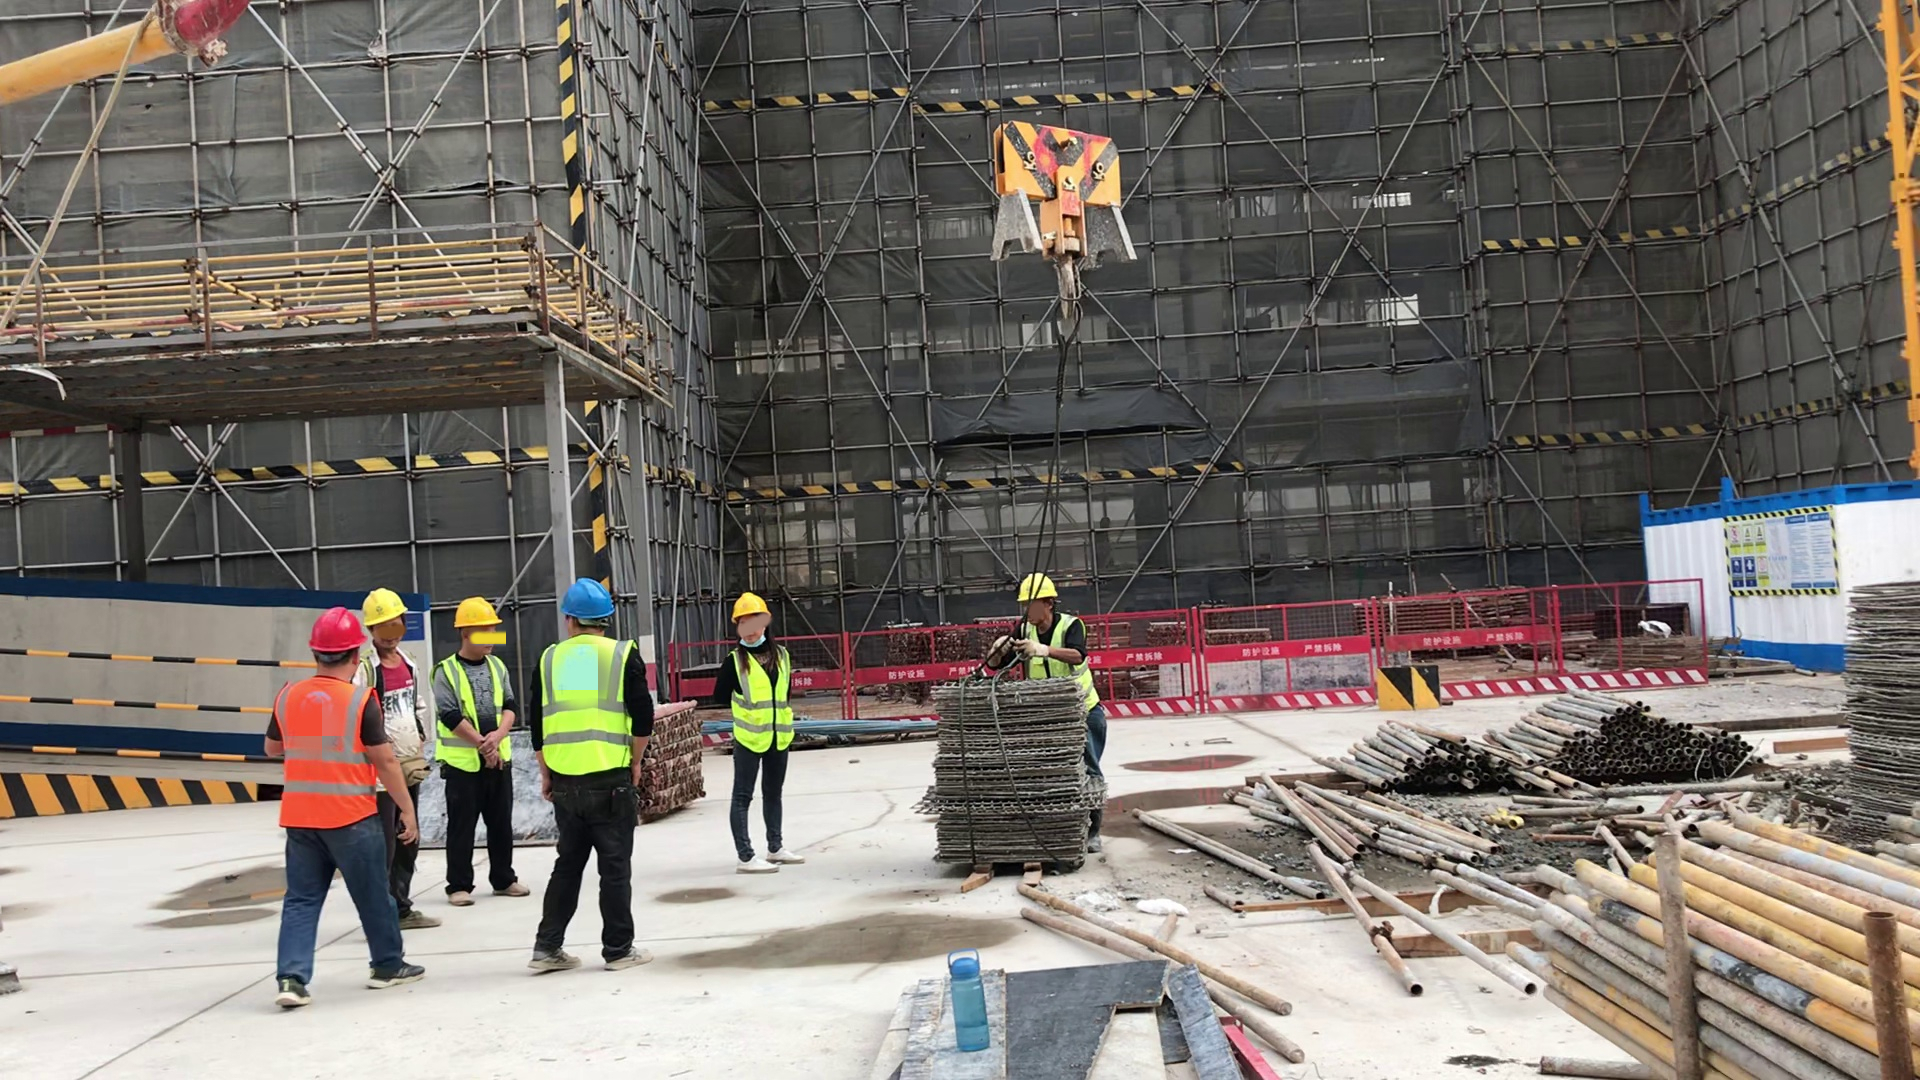fence: (804, 576, 1704, 746)
helmet: (308, 603, 367, 649), (555, 579, 615, 620), (450, 597, 501, 630), (362, 587, 412, 620), (729, 592, 774, 623), (1016, 573, 1058, 603)
hook: (989, 115, 1142, 310)
person: (264, 607, 426, 1006), (528, 579, 655, 971), (986, 574, 1106, 851), (432, 594, 533, 911), (351, 586, 442, 934), (712, 593, 807, 876)
scaffold: (935, 684, 1088, 854), (1850, 587, 1920, 796), (651, 706, 706, 818)
vest: (275, 674, 381, 830), (538, 637, 638, 776), (436, 656, 513, 769), (1016, 616, 1096, 712), (727, 646, 794, 753)
